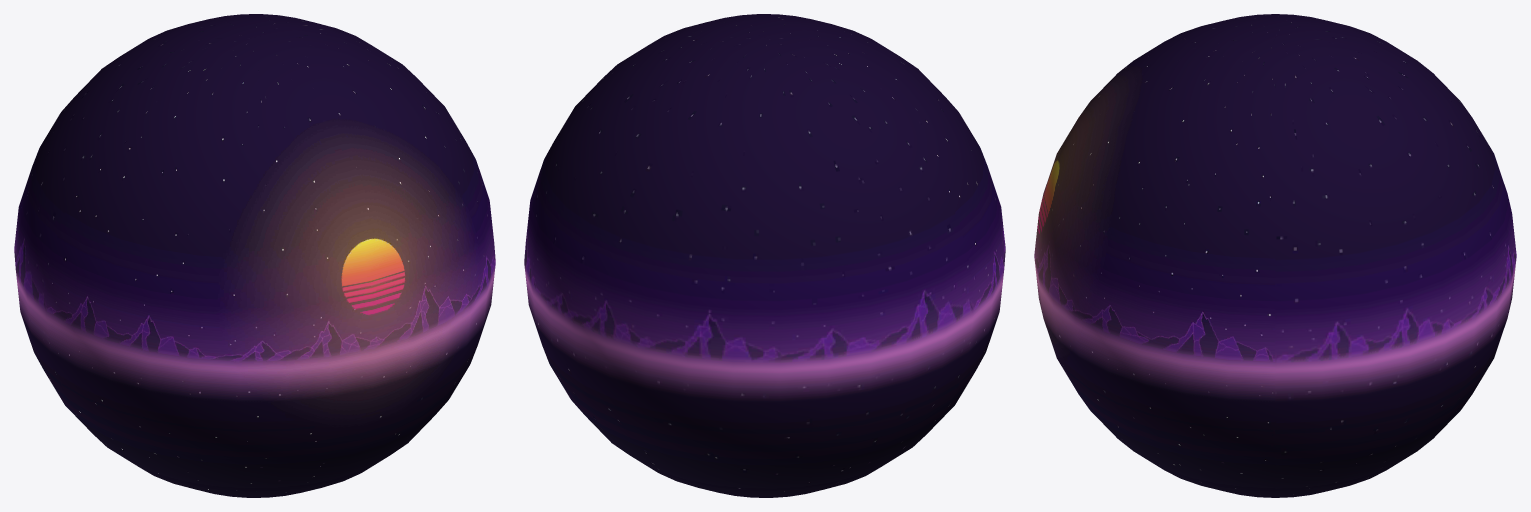
File: sky2.glb
3 renders of one model, left to right at view 1: azimuth 30°, elevation 25°; view 2: azimuth 150°, elevation 25°; view 3: azimuth 270°, elevation 25°, orthographic.
Parts seen in each view (by area): view 1: Сфера; view 2: Сфера; view 3: Сфера.
Part boxes in pixels (x1,y1,x2,y2): Сфера: (14, 14, 495, 497); Сфера: (524, 14, 1005, 497); Сфера: (1034, 14, 1516, 497).
Bounding box in the file's own units: 11.81 × 11.81 × 11.81.
2 materials, 2 textured.
